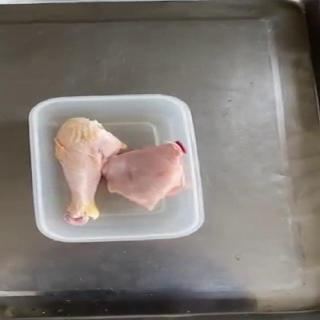Ayam: (53, 117, 129, 227), (103, 141, 189, 212)
